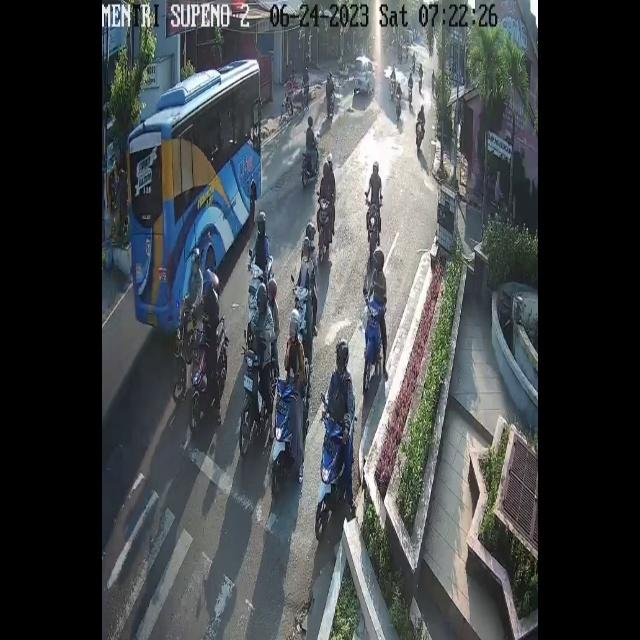bus: (186, 316, 228, 439), (273, 356, 310, 495), (314, 408, 352, 541), (241, 342, 265, 458), (165, 314, 192, 408), (249, 253, 273, 327), (364, 300, 382, 388), (295, 283, 319, 341), (319, 195, 337, 256), (366, 202, 384, 259), (301, 137, 319, 187), (414, 118, 426, 150), (394, 89, 402, 119), (407, 80, 414, 109)
car: (128, 58, 262, 331)
motorcycle: (353, 56, 375, 101)
